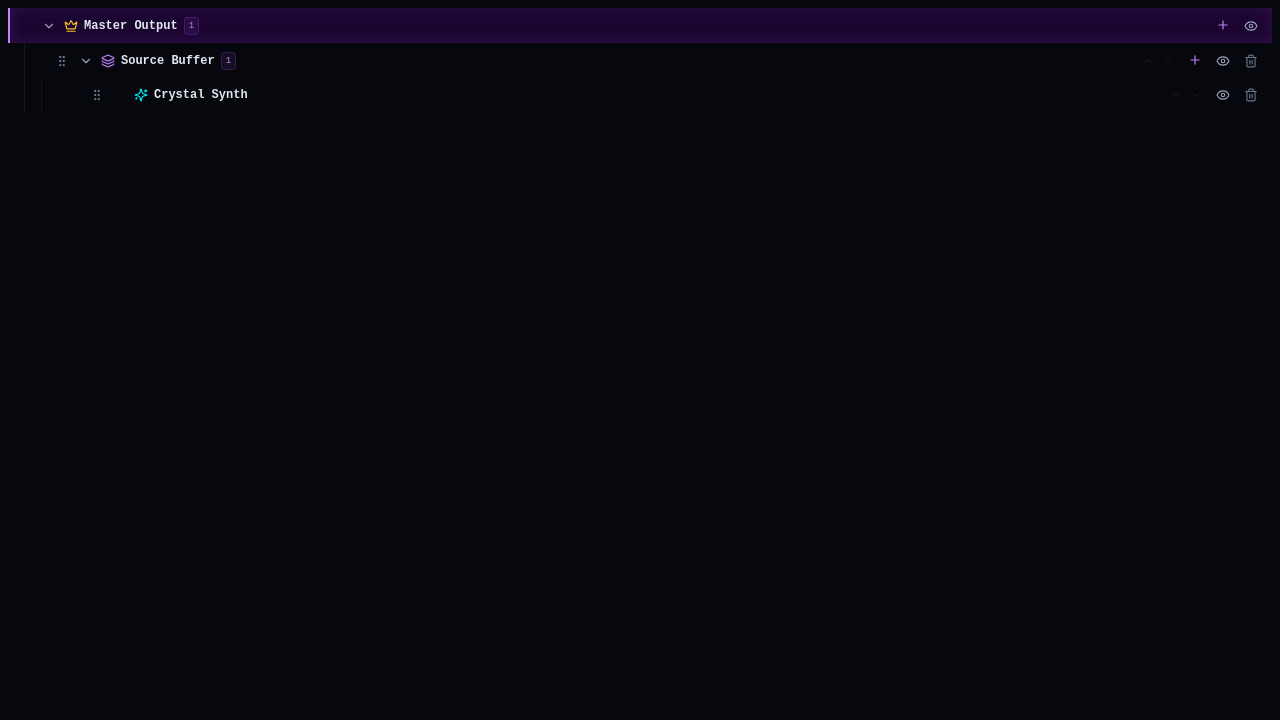
Test: WorkspacePane Component › shows confirmation dialog when deleting a container with children and deletes recursively upon confirmation
The width and height of the screenshot is (1280, 720).
source-buffer has child synth-child
Click the button with test id "tree-delete-btn-source-buffer".
click(1251, 60)  # box [1240, 50, 1262, 72]
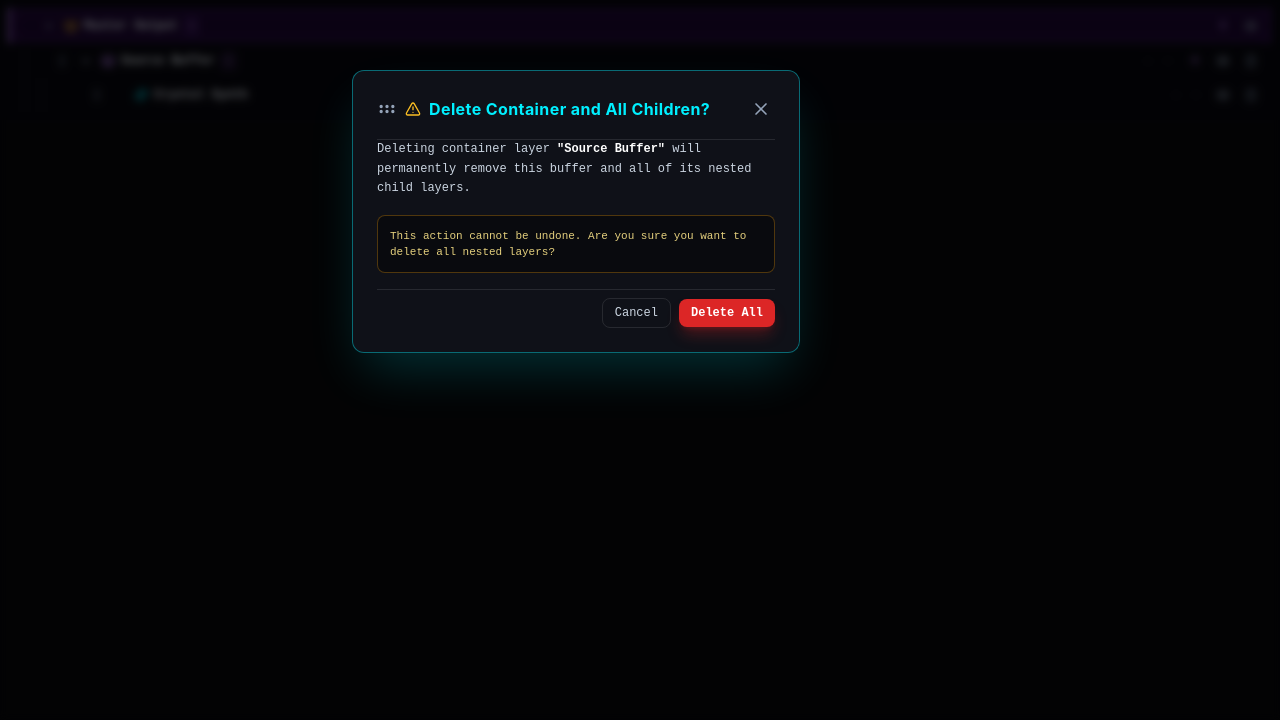
Check: the element with test id "delete-container-modal-header" is shown, box [377, 95, 775, 140]
Check: the text "Deleting container layer" is shown, box [377, 142, 550, 156]
Cancel deletion
Click the button with test id "cancel-delete-container-btn".
click(636, 312)  # box [602, 298, 671, 328]
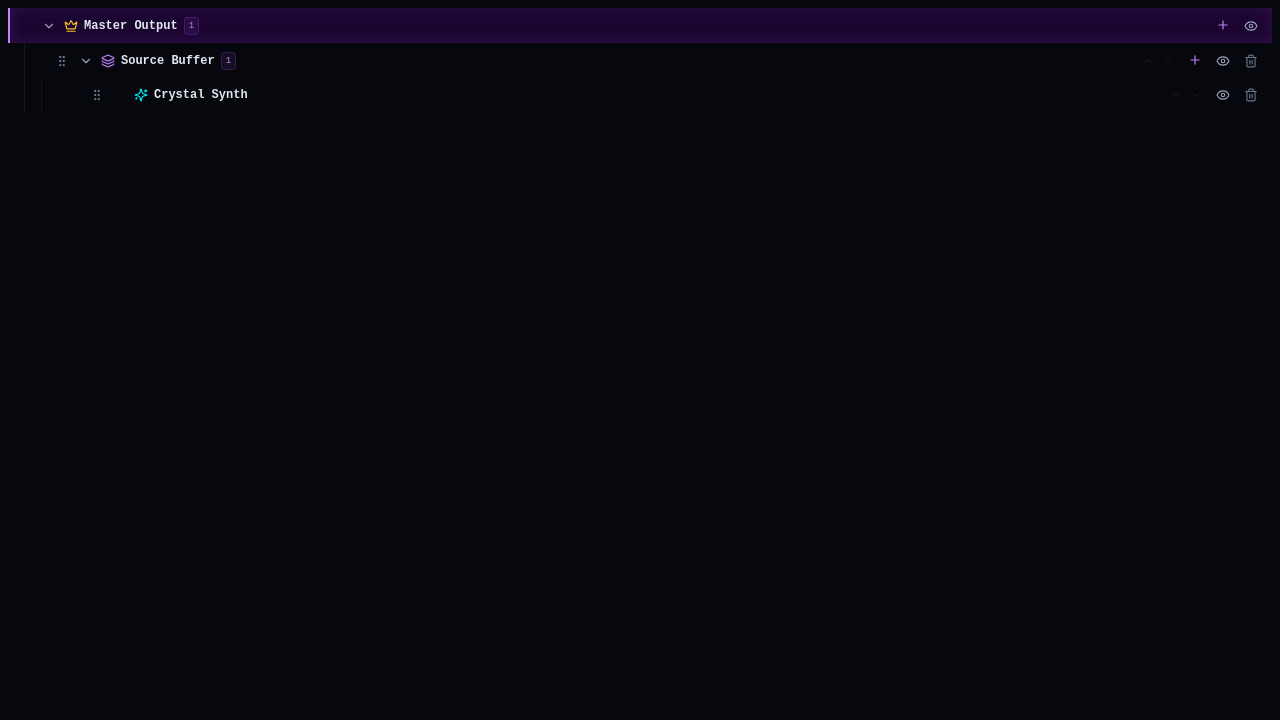
Check: the element with test id "layer-tree-item-source-buffer" is shown, box [25, 43, 1272, 78]
Check: the element with test id "delete-container-modal-header" is gone
Click delete again and confirm
Click the button with test id "tree-delete-btn-source-buffer".
click(1251, 60)  # box [1240, 50, 1262, 72]
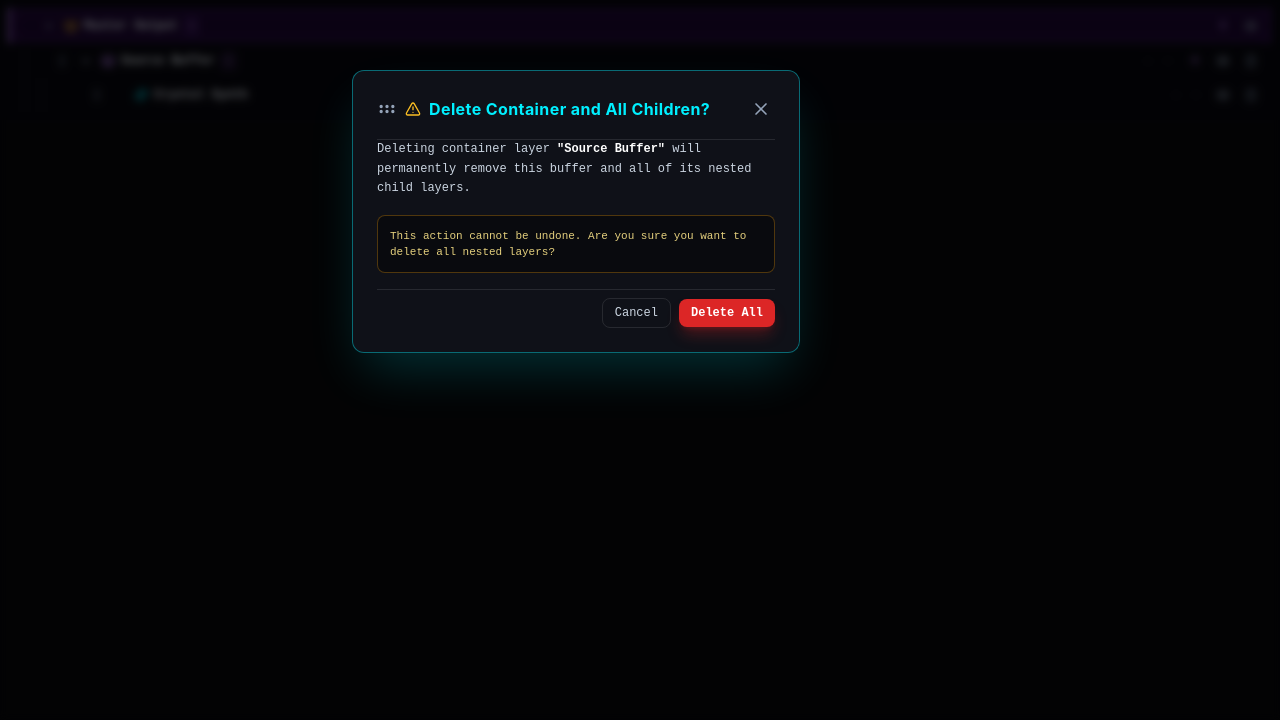
Check: the element with test id "delete-container-modal-header" is shown, box [377, 95, 775, 140]
Click the button with test id "confirm-delete-container-btn".
click(727, 312)  # box [679, 298, 775, 326]
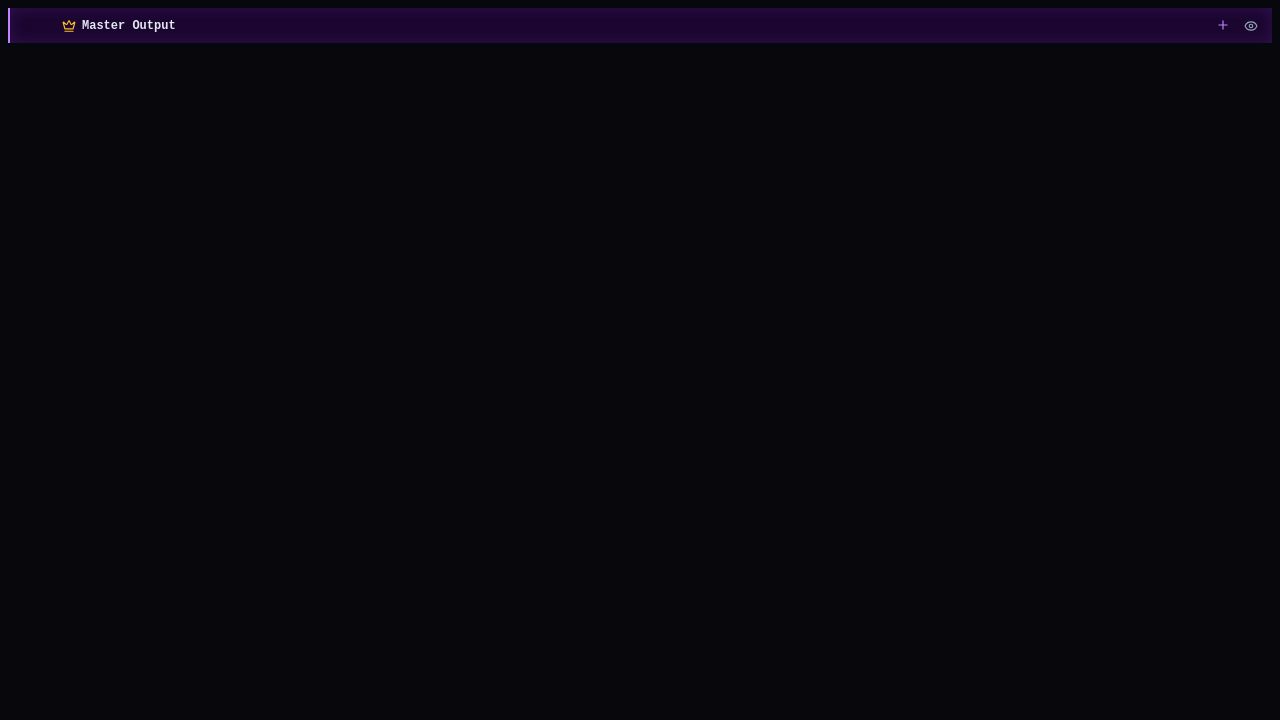
Check: the element with test id "layer-tree-item-source-buffer" is gone
Check: the element with test id "layer-tree-item-synth-child" is gone
